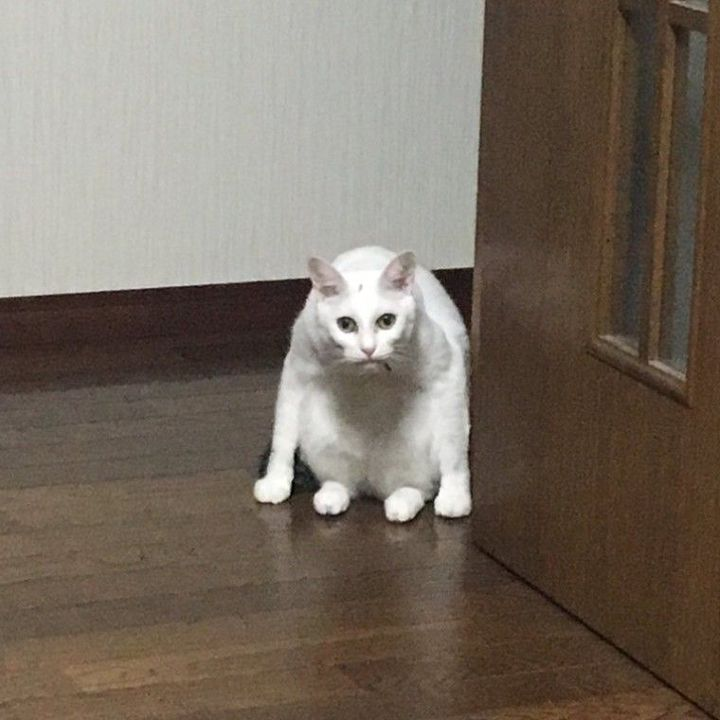cat: (245, 243, 475, 525)
cat-face: (296, 248, 434, 373)
